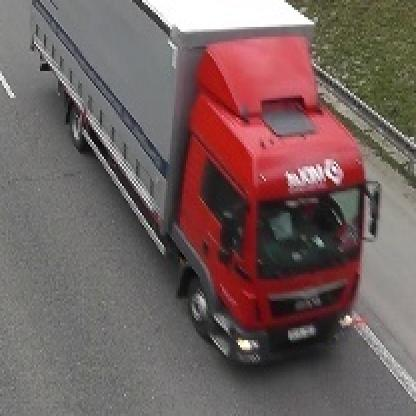truck: (29, 1, 379, 366)
